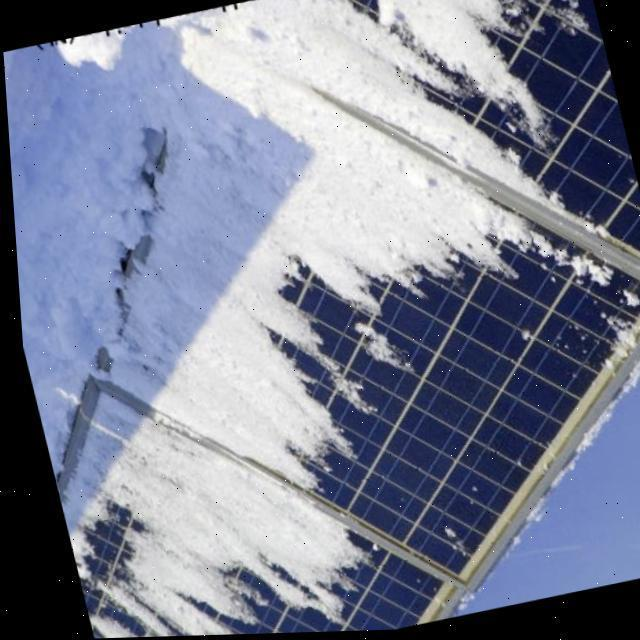Anomaly Solar Panel: (102, 49, 640, 588), (221, 0, 640, 277), (56, 391, 450, 639)
Snow: (59, 0, 542, 638)
